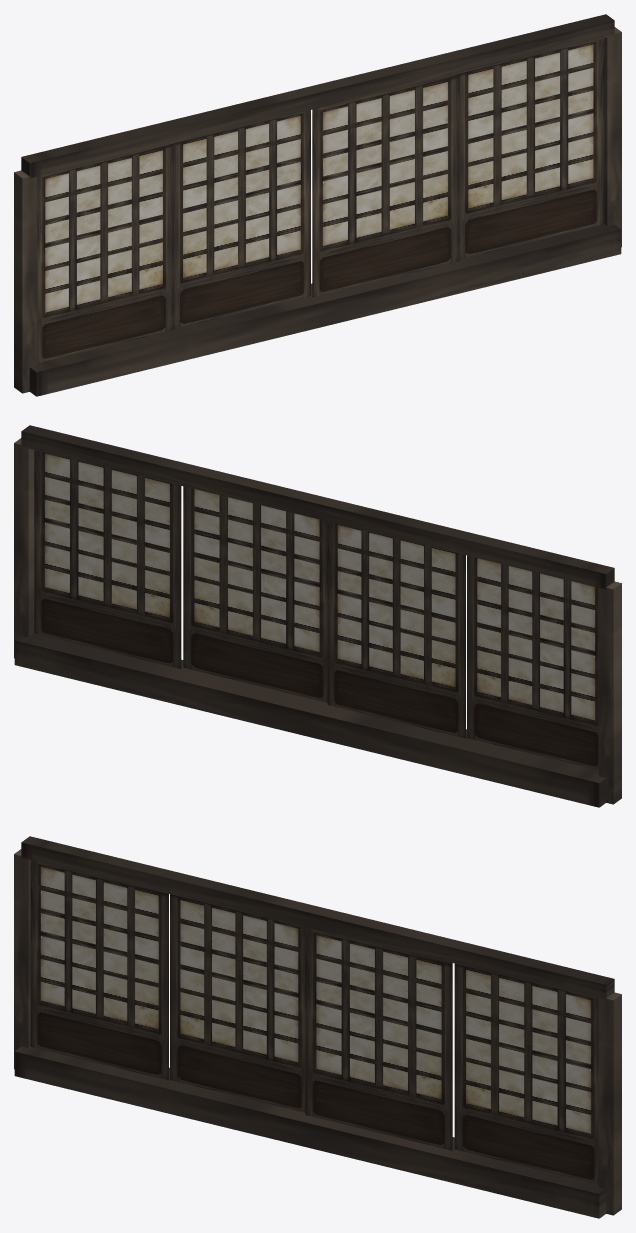
Rendered from Fusuma.fbx.
3 renders of one model, top to bottom at view 1: azimuth 30°, elevation 25°; view 2: azimuth 150°, elevation 25°; view 3: azimuth 330°, elevation 25°, orthographic.
Visible parts, largest first — view 1: pPlane15, pPlane13, pPlane14, pPlane16, pCube19, pCube18, pCube14, pCube15; view 2: pPlane13, pPlane15, pPlane14, pPlane16, pCube19, pCube18, pCube14, pCube15; view 3: pPlane15, pPlane13, pPlane16, pPlane14, pCube19, pCube18, pCube15, pCube14.
Boxes of the visible parts, x1,y1,x2,y2 form: pPlane15: (312, 74, 459, 297); pPlane13: (459, 38, 604, 259); pPlane14: (173, 110, 310, 328); pPlane16: (37, 143, 173, 363); pCube19: (29, 224, 621, 396); pCube18: (21, 14, 614, 178); pCube14: (14, 170, 37, 393); pCube15: (604, 27, 621, 247); pPlane13: (34, 450, 181, 668); pPlane15: (183, 486, 327, 702); pPlane14: (327, 521, 465, 738); pPlane16: (467, 555, 598, 769); pCube19: (14, 633, 606, 807); pCube18: (21, 425, 614, 589); pCube14: (598, 581, 621, 804); pCube15: (14, 438, 34, 658); pPlane15: (305, 927, 452, 1150); pPlane13: (454, 963, 598, 1184); pPlane16: (30, 860, 168, 1080); pPlane14: (170, 894, 305, 1112); pCube19: (14, 1046, 606, 1218); pCube18: (21, 836, 614, 1000); pCube15: (598, 992, 621, 1215); pCube14: (14, 849, 30, 1069).
Bounding box in the file's own units: 1120 × 408 × 71.24.
